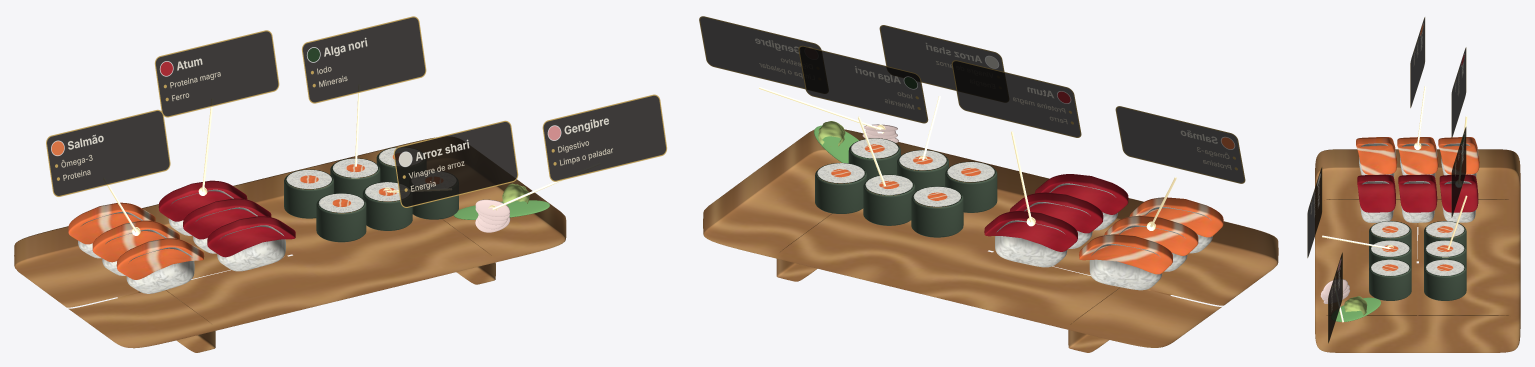
File: sushi.glb
3 renders of one model, left to right at view 1: azimuth 30°, elevation 25°; view 2: azimuth 150°, elevation 25°; view 3: azimuth 270°, elevation 25°, orthographic. The views are drawn at different scales.
Visible parts, largest first — view 1: dish; view 2: dish; view 3: dish.
Boxes of the visible parts, x1,y1,x2,y2 form: dish: (14,16,666,352); dish: (699,16,1278,352); dish: (1307,17,1520,352).
Bounding box in the file's own units: 0.405 × 0.1542 × 0.1555.
Materials: 15 (10 with a texture image).
